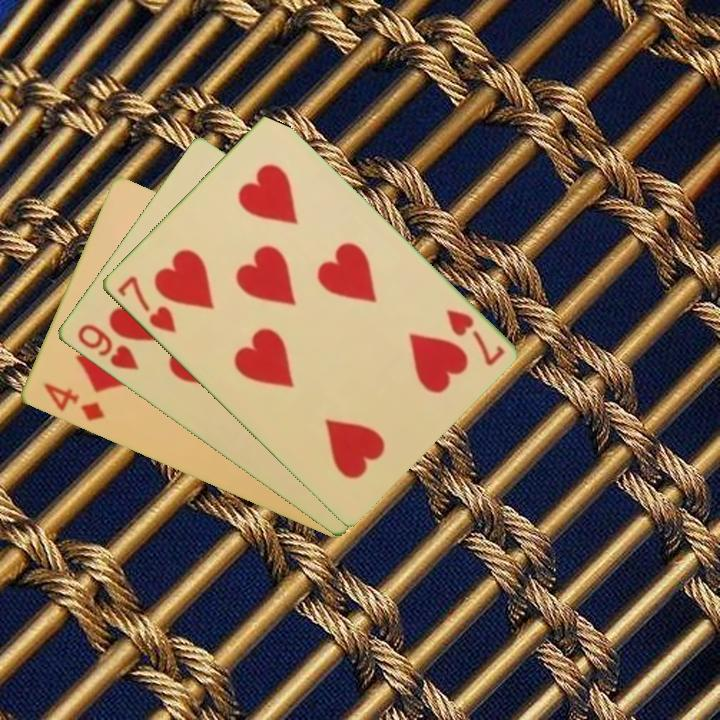4d: (39, 380, 107, 424)
7h: (113, 272, 179, 336), (442, 306, 507, 369)
9h: (73, 320, 141, 373)
